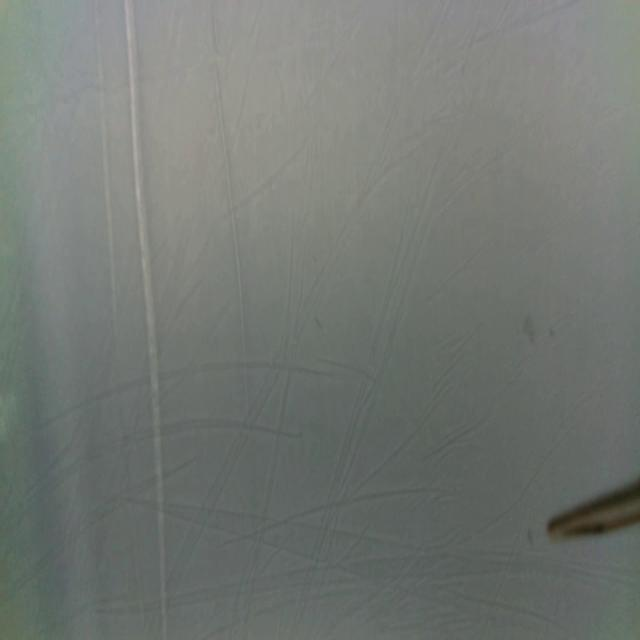crease: (124, 0, 168, 638), (213, 68, 250, 420), (94, 0, 119, 334)
